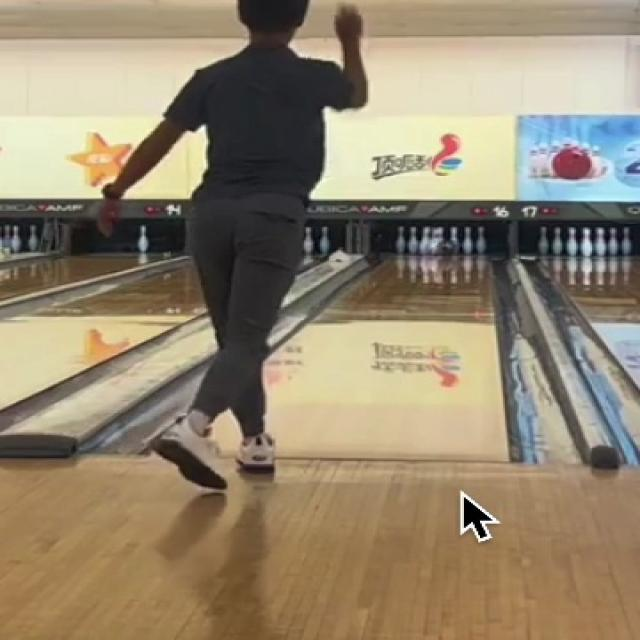alley: (267, 246, 507, 458)
balls: (437, 240, 455, 256)
bottle: (396, 224, 485, 253)
